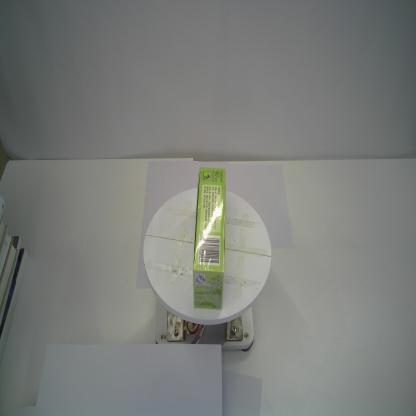Instant Drink: (192, 166, 226, 310)
